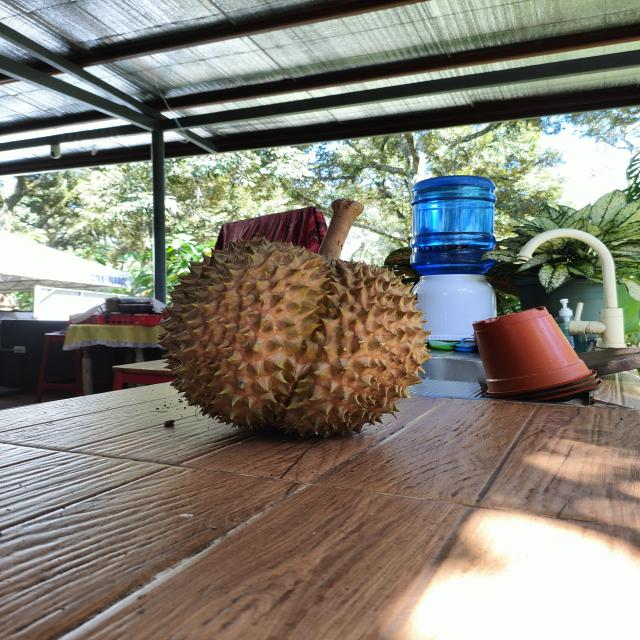mature: (160, 238, 430, 436)
